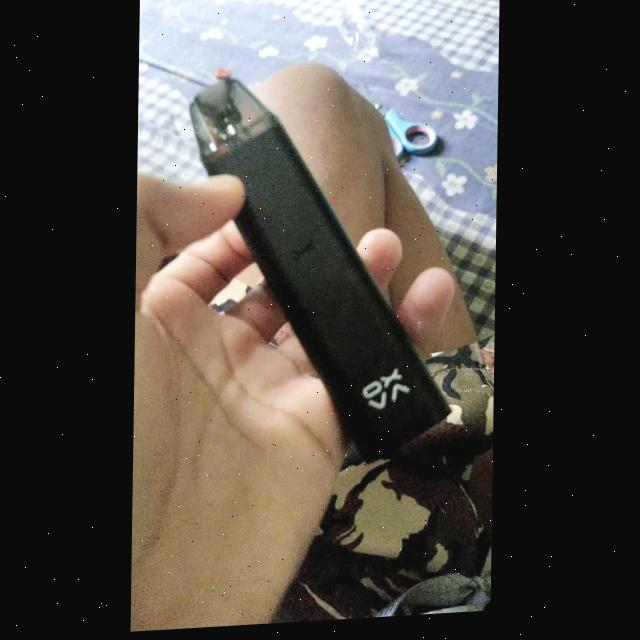vape: (184, 71, 459, 481)
